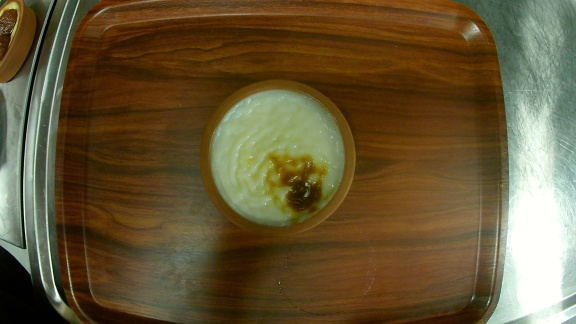sutlac: (199, 79, 358, 237)
